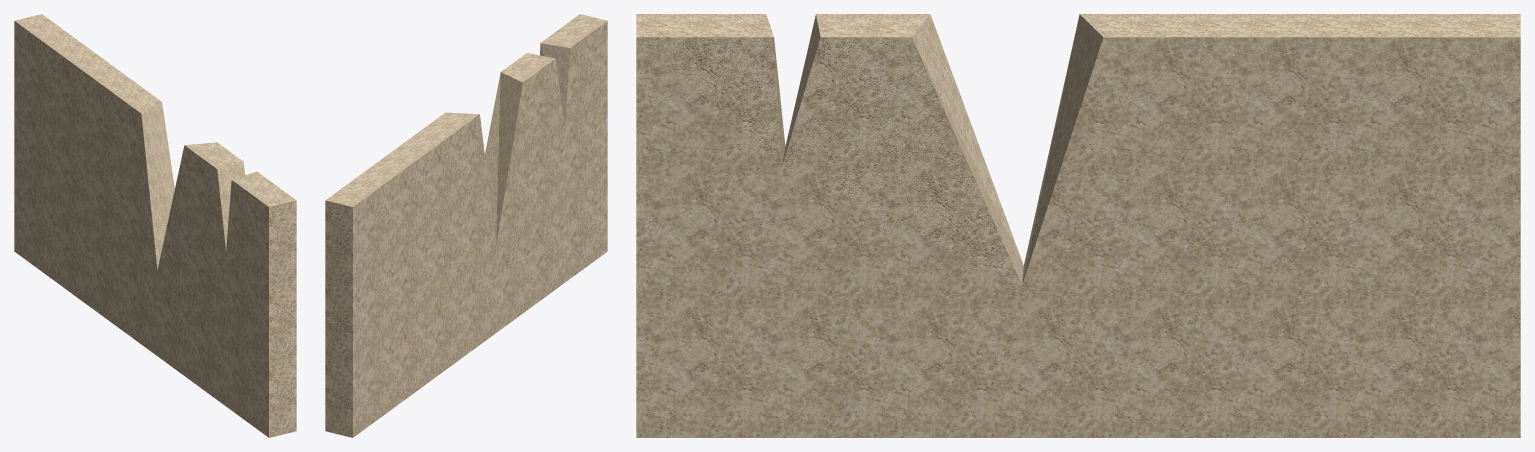
The model's file is thm_tato_imprv_wall_cleft_s01_l3.fbx.
3 renders of one model, left to right at view 1: azimuth 30°, elevation 25°; view 2: azimuth 150°, elevation 25°; view 3: azimuth 270°, elevation 25°, orthographic. The views are drawn at different scales.
Parts seen in each view (by area): view 1: mesh_node; view 2: mesh_node; view 3: mesh_node.
Part boxes in pixels (x1,y1,x2,y2): mesh_node: (14, 14, 296, 437); mesh_node: (325, 14, 607, 437); mesh_node: (636, 14, 1520, 437).
Bounding box in the file's own units: 0.5 × 4 × 8.
